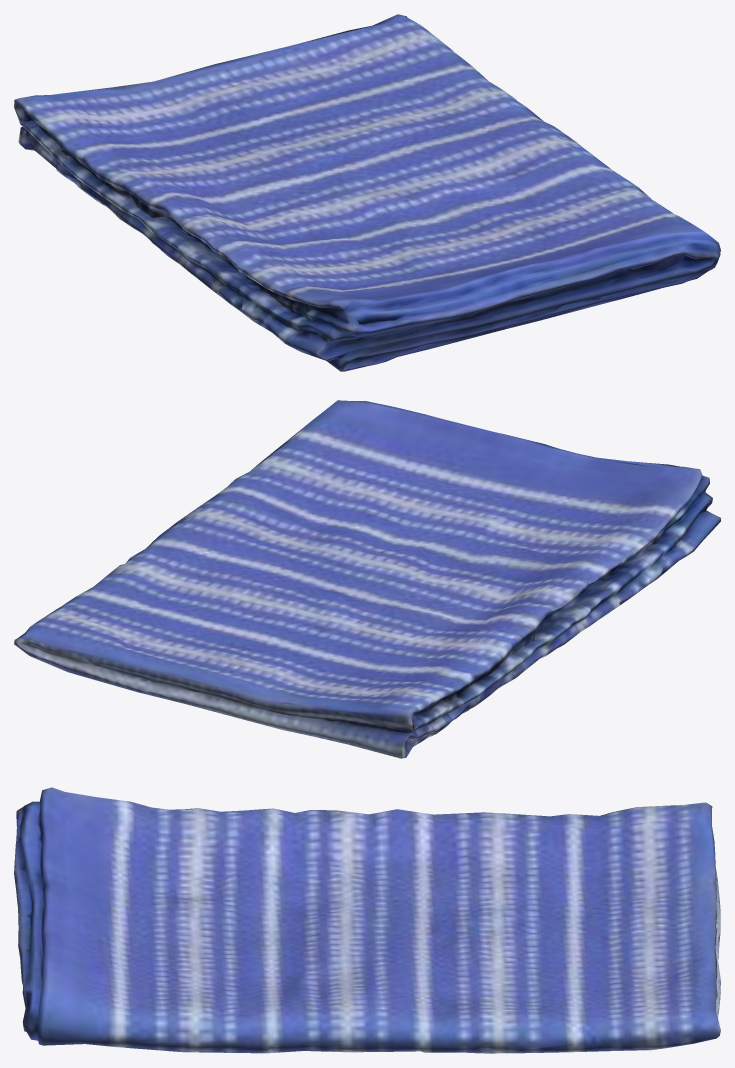
The model's file is gso_tag_dishtowel_dobby_stripe_blue_18_x_26.glb.
3 views of the same model, one above another, from view 1: azimuth 30°, elevation 25°; view 2: azimuth 150°, elevation 25°; view 3: azimuth 270°, elevation 25° (orthographic). The views are drawn at different scales.
Visible parts, largest first — view 1: z-up-to-y-up; view 2: z-up-to-y-up; view 3: z-up-to-y-up.
Part boxes in pixels (x1,y1,x2,y2): z-up-to-y-up: (14,14,720,371); z-up-to-y-up: (14,400,720,758); z-up-to-y-up: (14,787,720,1053).
Bounding box in the file's own units: 0.1711 × 0.028 × 0.2366.
1 material, 1 textured.
